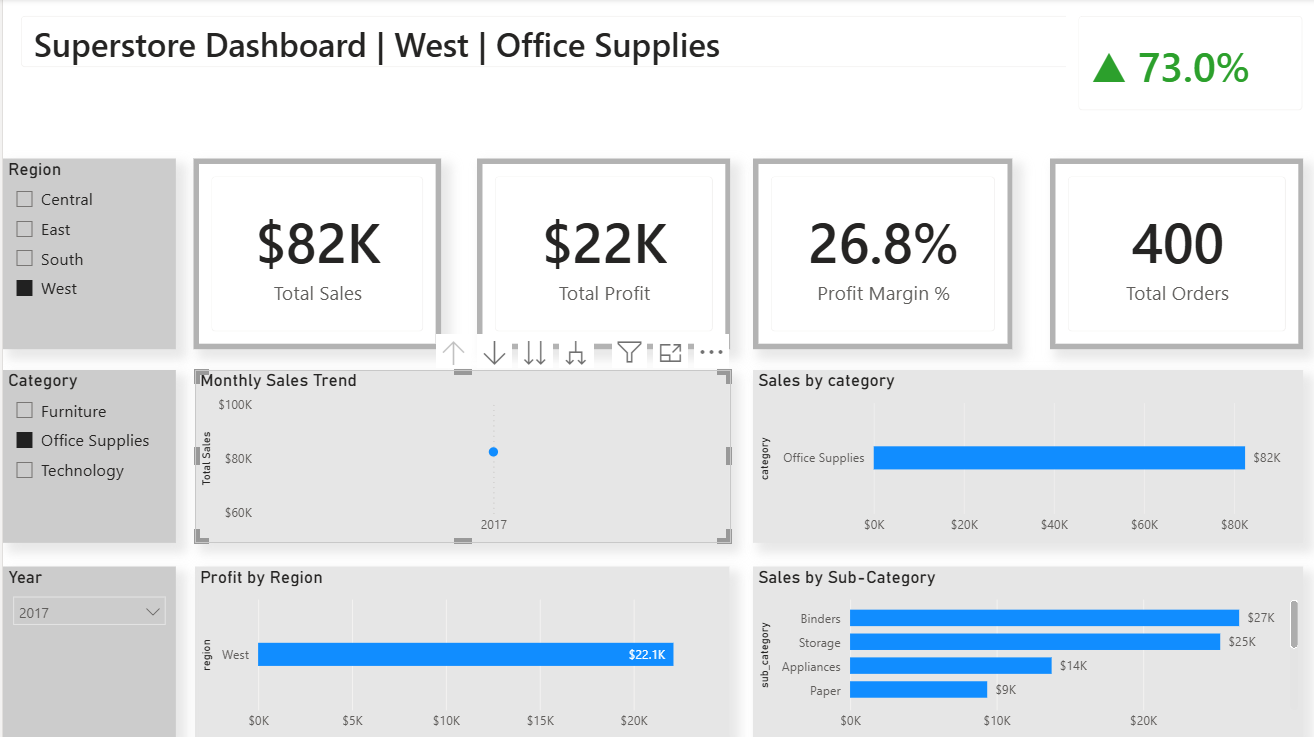

What the dashboard file says about the page in this screenshot:
{"tool":"powerbi","page":{"name":"Sales","canvas":[1280,720],"ordinal":0},"visuals":[{"type":"cardVisual","fields":{"Data":["_All Measures.Total Sales"]},"box":[185.1,156,240.5,185.1],"z":0},{"type":"cardVisual","fields":{"Data":["_All Measures.Total Profit"]},"box":[460.2,156.6,246.3,185.2],"z":1000},{"type":"cardVisual","fields":{"Data":["_All Measures.Profit Margin %"]},"box":[729.4,156.6,252.1,185.2],"z":2000},{"type":"cardVisual","fields":{"Data":["_All Measures.Total Orders"]},"box":[1017.8,156.6,246.3,185.2],"z":3000},{"type":"lineChart","title":"Monthly Sales Trend","fields":{"Category":["Dim_Date.Date.Variation.Date Hierarchy.Year","Dim_Date.Date.Variation.Date Hierarchy.Month"],"Y":["_All Measures.Total Sales"]},"box":[187.1,360.9,519.4,168],"z":4000},{"type":"clusteredBarChart","title":"Sales by category","fields":{"Category":["ecommerce_project superstore.category"],"Y":["_All Measures.Total Sales"]},"box":[729.4,360.9,534.7,168],"z":5000},{"type":"clusteredBarChart","title":"Profit by Region","fields":{"Category":["ecommerce_project superstore.region"],"Y":["_All Measures.Total Profit"]},"box":[187.1,551.8,519.4,168],"z":6000},{"type":"clusteredBarChart","title":"Sales by Sub-Category","fields":{"Category":["ecommerce_project superstore.sub_category"],"Y":["_All Measures.Total Sales"]},"box":[729.4,551.8,534.7,168],"z":7000},{"type":"slicer","title":"Region","fields":{"Values":["ecommerce_project superstore.region"]},"box":[0,156.6,168,185.2],"z":8000},{"type":"slicer","title":"Category","fields":{"Values":["ecommerce_project superstore.category"]},"box":[0,360.9,168,168],"z":9000},{"type":"slicer","title":"Year","fields":{"Values":["Dim_Date.Year"]},"box":[0,551.8,168,168],"z":10000},{"type":"textbox","box":[187.1,5.7,169.9,38.2],"z":11000},{"type":"textbox","box":[187.1,0,208.1,49.6],"z":12000},{"type":"cardVisual","fields":{"Data":["Dim_Date.Dashboard Title"]},"box":[0,0,1279.4,84],"z":13000},{"type":"cardVisual","fields":{"Data":["Dim_Date.YoY KPI Display"]},"box":[1027.9,0,252.1,126],"z":14000}]}

Visuals, with their boxes in screenshot pixels (x1, y1, x2, y2), scaled from the page's 1280x720 canvas onto the 1314x737 screenshot:
cardVisual - _All Measures.Total Sales: bbox(190, 160, 437, 349)
cardVisual - _All Measures.Total Profit: bbox(472, 160, 725, 350)
cardVisual - _All Measures.Profit Margin %: bbox(749, 160, 1008, 350)
cardVisual - _All Measures.Total Orders: bbox(1045, 160, 1298, 350)
"Monthly Sales Trend" lineChart: bbox(192, 369, 725, 541)
"Sales by category" clusteredBarChart: bbox(749, 369, 1298, 541)
"Profit by Region" clusteredBarChart: bbox(192, 565, 725, 736)
"Sales by Sub-Category" clusteredBarChart: bbox(749, 565, 1298, 736)
"Region" slicer: bbox(0, 160, 172, 350)
"Category" slicer: bbox(0, 369, 172, 541)
"Year" slicer: bbox(0, 565, 172, 736)
textbox: bbox(192, 6, 366, 45)
textbox: bbox(192, 0, 406, 51)
cardVisual - Dim_Date.Dashboard Title: bbox(0, 0, 1313, 86)
cardVisual - Dim_Date.YoY KPI Display: bbox(1055, 0, 1313, 129)
